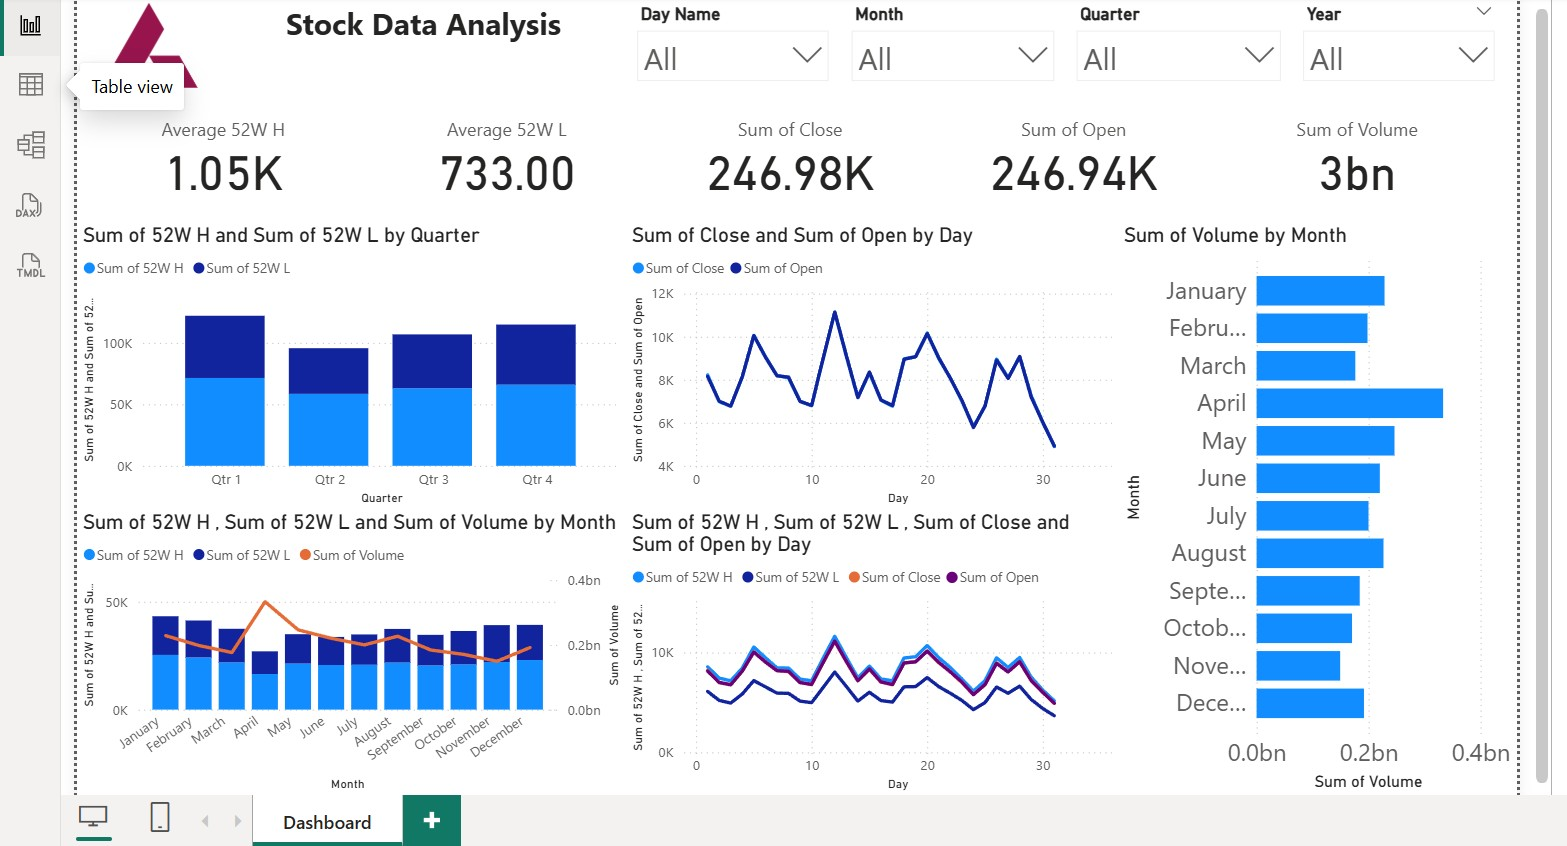

The page's visual inventory and layout, read from the dashboard file:
{"tool":"powerbi","page":{"name":"Dashboard","canvas":[1280,720],"ordinal":0},"visuals":[{"type":"slicer","fields":{"Values":["Equity-AXISBANK-EQ.Date .Variation.Date Hierarchy.Month"]},"box":[678.6,0,200,85.7],"z":0},{"type":"slicer","fields":{"Values":["Equity-AXISBANK-EQ.Day Name"]},"box":[488,0,190,86],"z":1000},{"type":"slicer","fields":{"Values":["Equity-AXISBANK-EQ.Date .Variation.Date Hierarchy.Quarter"]},"box":[878.6,0,201.4,85.7],"z":2000},{"type":"slicer","fields":{"Values":["Equity-AXISBANK-EQ.Date .Variation.Date Hierarchy.Year"]},"box":[1080,0,190,85.7],"z":3000},{"type":"cardVisual","fields":{"Data":["Equity-AXISBANK-EQ.52W H","Equity-AXISBANK-EQ.Average 52W L","Sum(Equity-AXISBANK-EQ.close )","Sum(Equity-AXISBANK-EQ.OPEN )","Sum(Equity-AXISBANK-EQ.VOLUME )"]},"box":[0,85.7,1270,115.7],"z":4000},{"type":"columnChart","fields":{"Y":["Sum(Equity-AXISBANK-EQ.52W H )","Sum(Equity-AXISBANK-EQ.52W L )"],"Category":["Equity-AXISBANK-EQ.Date .Variation.Date Hierarchy.Quarter"]},"box":[0,201.4,488.6,254.3],"z":5000},{"type":"lineStackedColumnComboChart","fields":{"Y":["Sum(Equity-AXISBANK-EQ.52W H )","Sum(Equity-AXISBANK-EQ.52W L )"],"Category":["Equity-AXISBANK-EQ.Date .Variation.Date Hierarchy.Month"],"Y2":["Sum(Equity-AXISBANK-EQ.Volume)"]},"box":[0,455.7,488.6,254.3],"z":6000},{"type":"lineChart","fields":{"Y":["Sum(Equity-AXISBANK-EQ.Close)","Sum(Equity-AXISBANK-EQ.Open)"],"Category":["Equity-AXISBANK-EQ.Date .Variation.Date Hierarchy.Day"]},"box":[488.6,201.4,437.1,254.3],"z":7000},{"type":"lineChart","fields":{"Y":["Sum(Equity-AXISBANK-EQ.52W H )","Sum(Equity-AXISBANK-EQ.52W L )","Sum(Equity-AXISBANK-EQ.Close)","Sum(Equity-AXISBANK-EQ.Open)"],"Category":["Equity-AXISBANK-EQ.Date .Variation.Date Hierarchy.Day"]},"box":[488.6,455.7,437.1,254.3],"z":8000},{"type":"clusteredBarChart","fields":{"Category":["Equity-AXISBANK-EQ.Date .Variation.Date Hierarchy.Month"],"Y":["Sum(Equity-AXISBANK-EQ.Volume)"]},"box":[925.7,201.4,354.3,508.6],"z":9000},{"type":"image","box":[0,0,128.6,85.7],"z":10000},{"type":"textbox","box":[128.6,0,360,85.7],"z":11000}]}

Visuals, with their boxes on the page's 1280x720 design canvas (x1, y1, x2, y2). These are canvas units, not pixel positions in the 1567x846 screenshot, which may show the page scaled, cropped or inside an application window:
slicer - Equity-AXISBANK-EQ.Date .Variation.Date Hierarchy.Month: region(679, 0, 879, 86)
slicer - Equity-AXISBANK-EQ.Day Name: region(488, 0, 678, 86)
slicer - Equity-AXISBANK-EQ.Date .Variation.Date Hierarchy.Quarter: region(879, 0, 1080, 86)
slicer - Equity-AXISBANK-EQ.Date .Variation.Date Hierarchy.Year: region(1080, 0, 1270, 86)
cardVisual - Equity-AXISBANK-EQ.52W H x Equity-AXISBANK-EQ.Average 52W L: region(0, 86, 1270, 201)
columnChart - Sum(Equity-AXISBANK-EQ.52W H ) x Sum(Equity-AXISBANK-EQ.52W L ): region(0, 201, 489, 456)
lineStackedColumnComboChart - Sum(Equity-AXISBANK-EQ.52W H ) x Sum(Equity-AXISBANK-EQ.52W L ): region(0, 456, 489, 710)
lineChart - Sum(Equity-AXISBANK-EQ.Close) x Sum(Equity-AXISBANK-EQ.Open): region(489, 201, 926, 456)
lineChart - Sum(Equity-AXISBANK-EQ.52W H ) x Sum(Equity-AXISBANK-EQ.52W L ): region(489, 456, 926, 710)
clusteredBarChart - Equity-AXISBANK-EQ.Date .Variation.Date Hierarchy.Month x Sum(Equity-AXISBANK-EQ.Volume): region(926, 201, 1280, 710)
image: region(0, 0, 129, 86)
textbox: region(129, 0, 489, 86)
